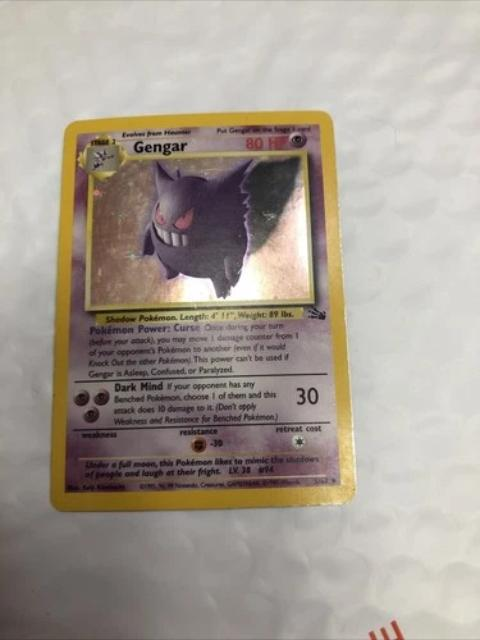Card: (44, 104, 358, 517)
Name: (125, 134, 189, 157)
